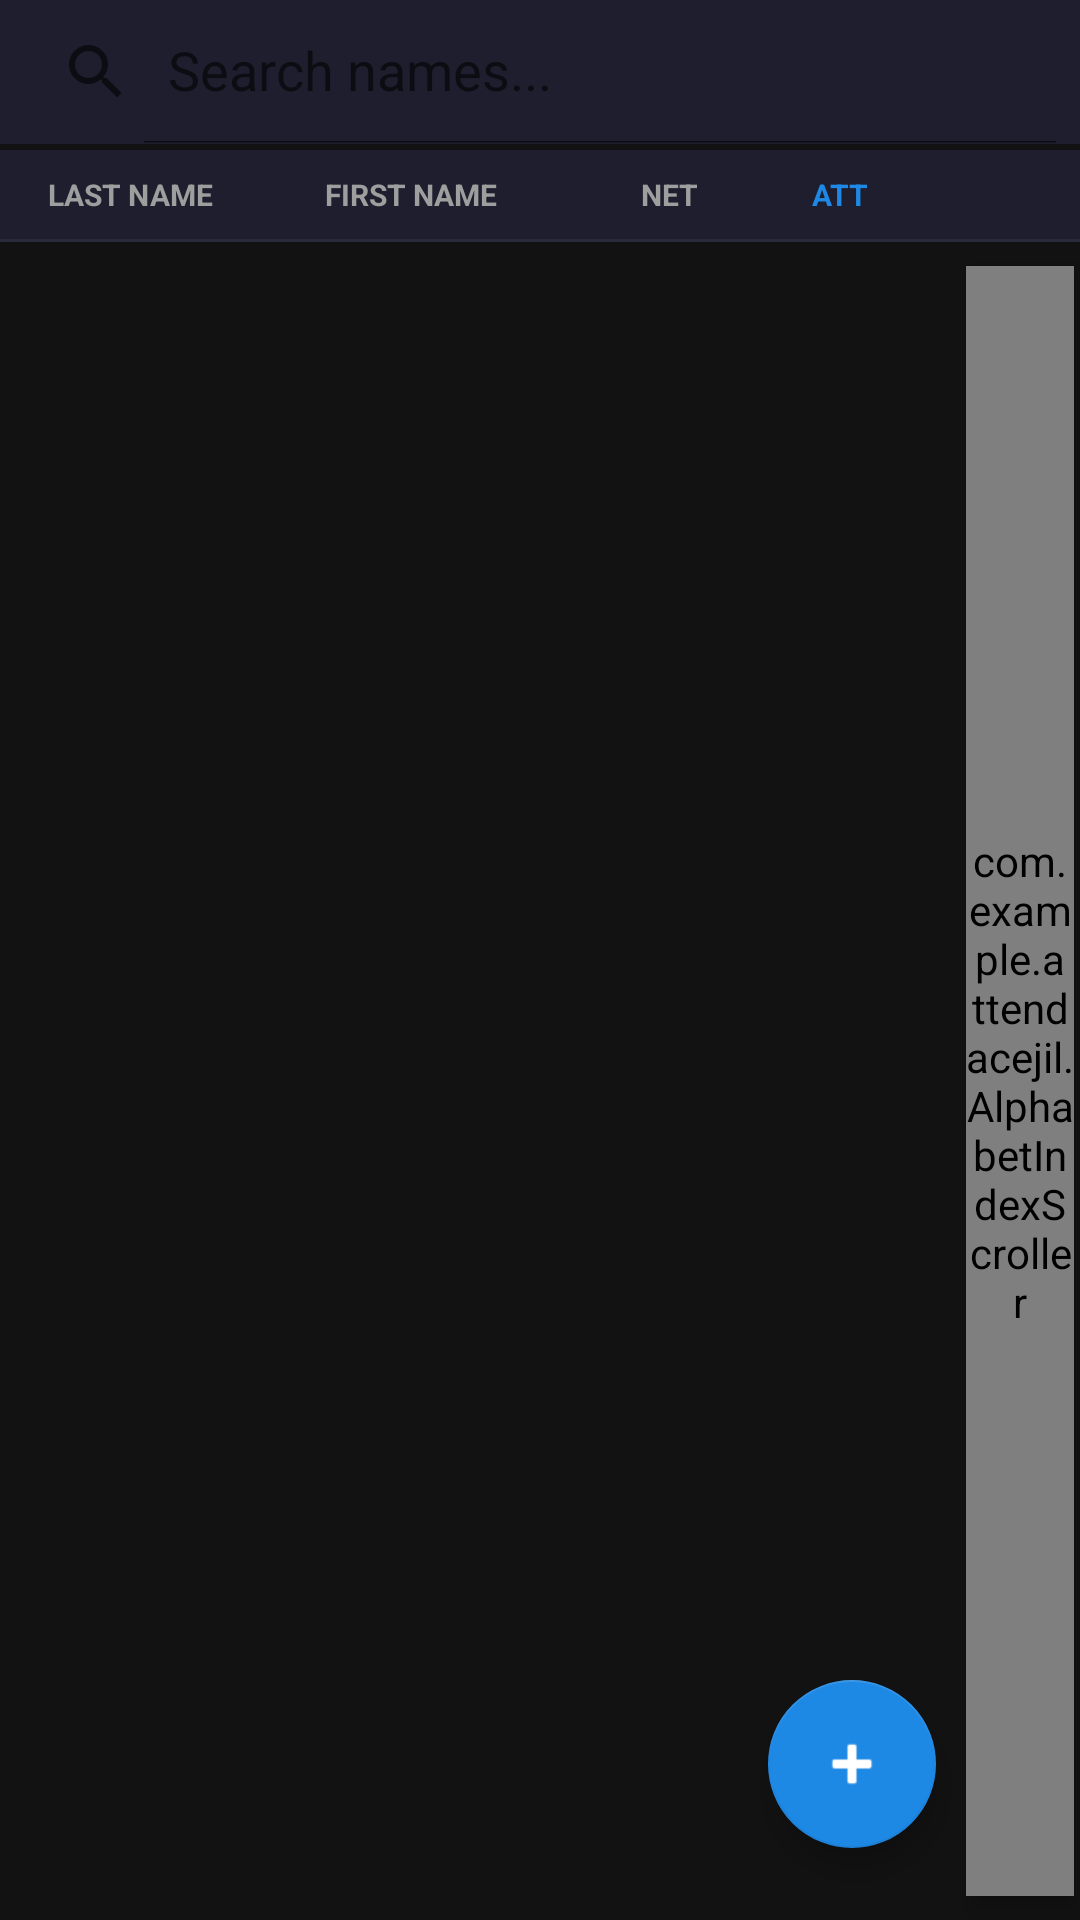

Where to tap for icons on this 1080w x 1920h app screen, as point (x, y):
Add Member: point (852, 1764)
